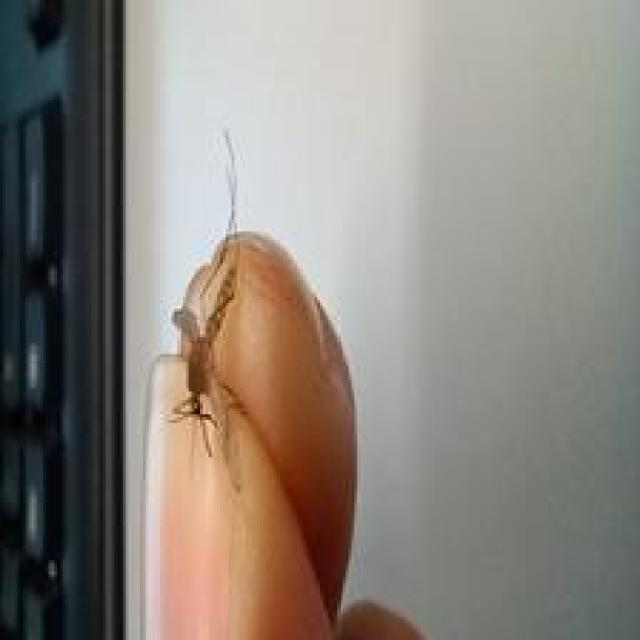Culex: (140, 128, 363, 640)
